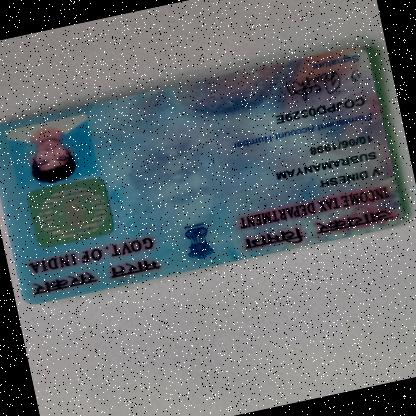pan_card: (0, 40, 407, 308)
